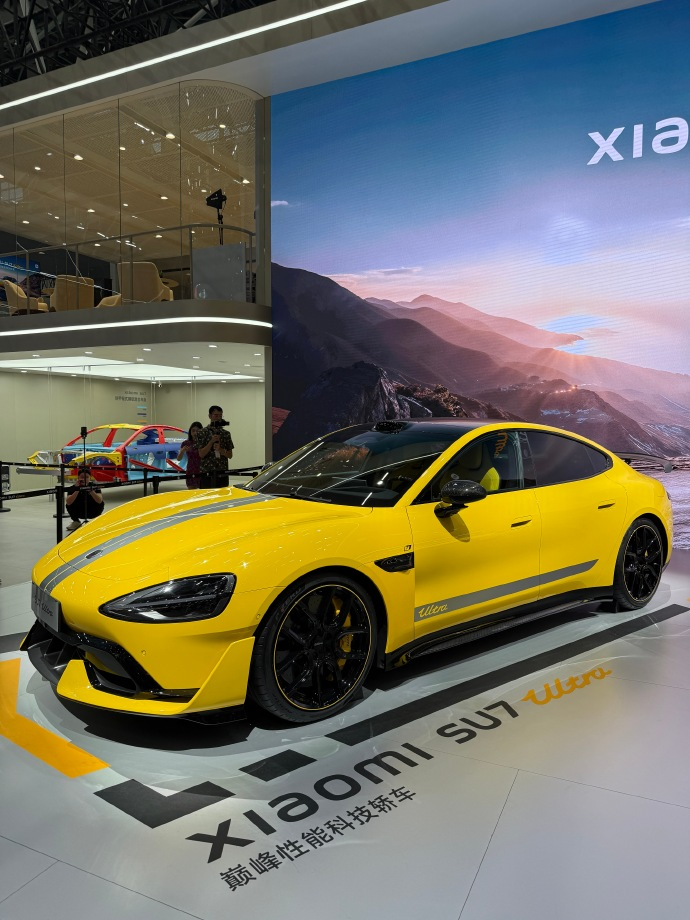su7: (13, 421, 674, 722)
